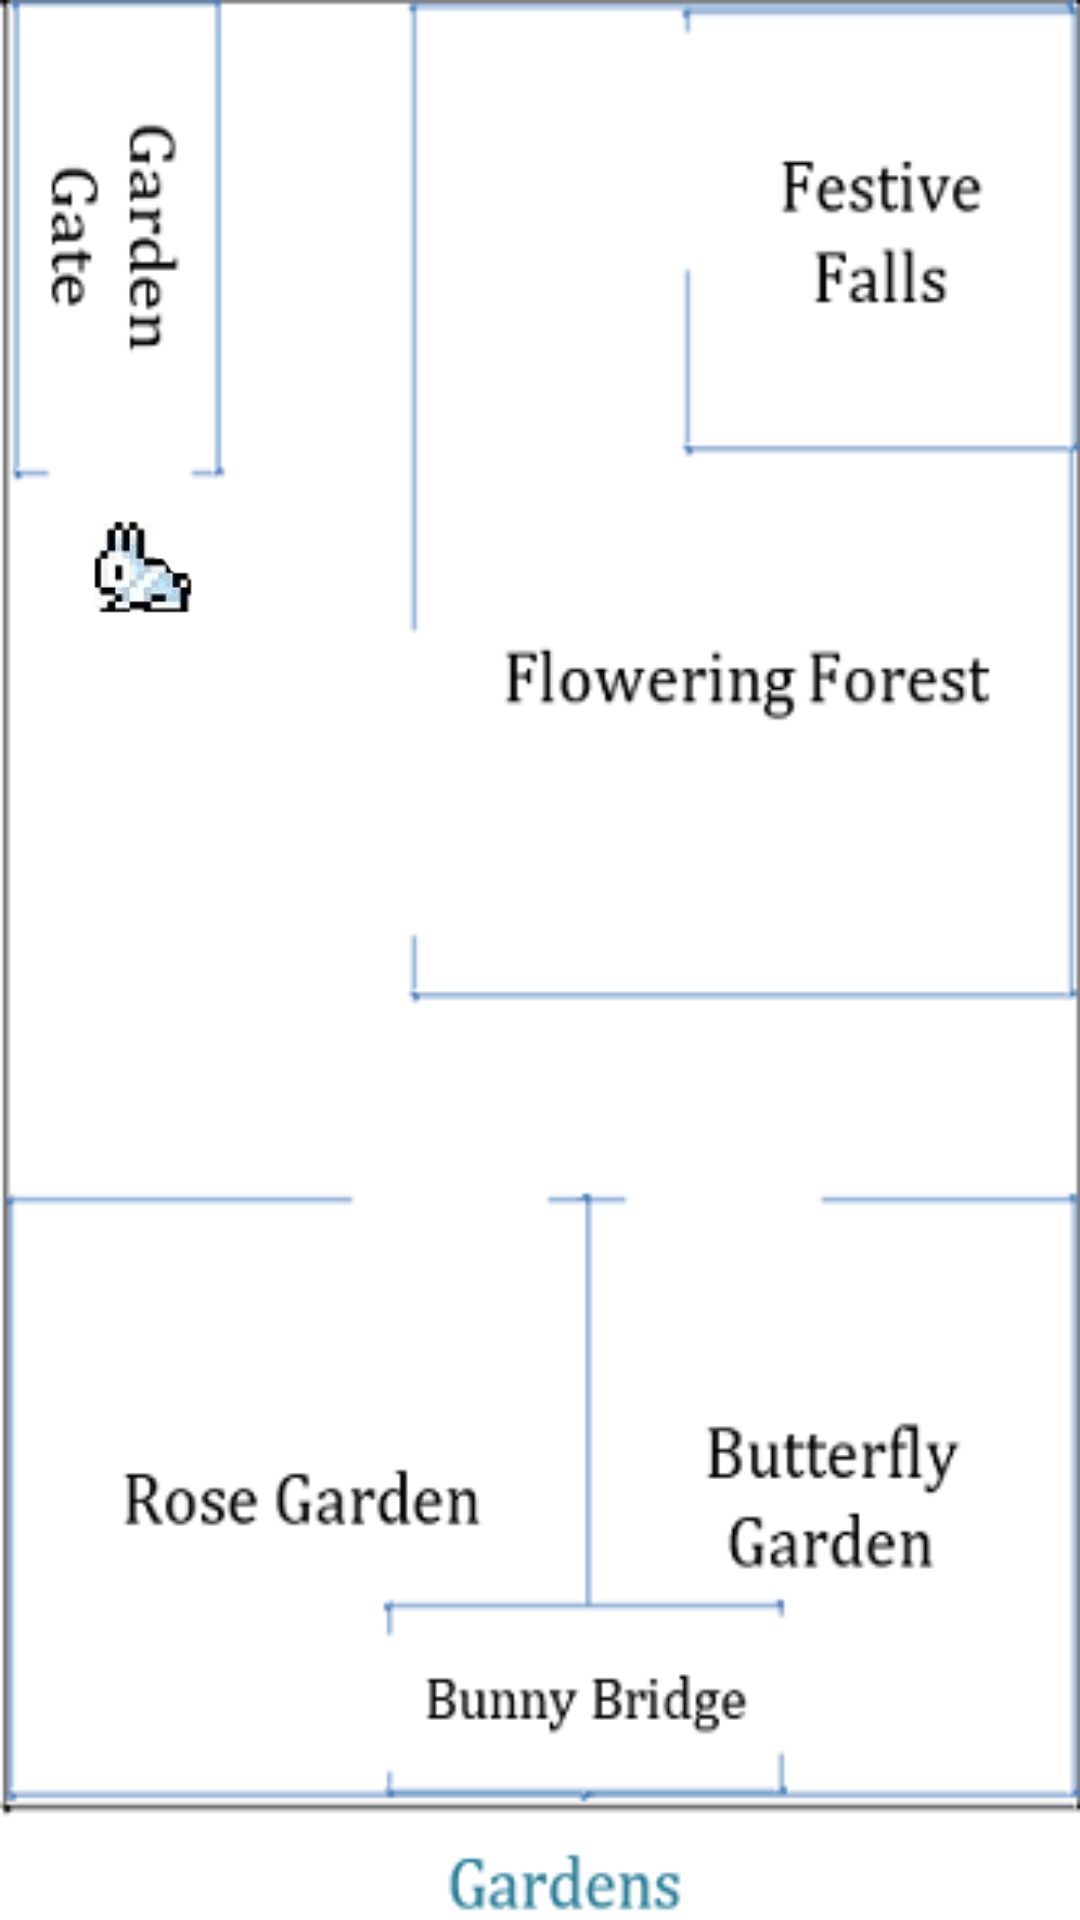

Named icons in this screenshot (1080*1920) and their bounding boxes, box(x1, y1, x2, y2):
Terraria Bunny: box(94, 521, 192, 613)
